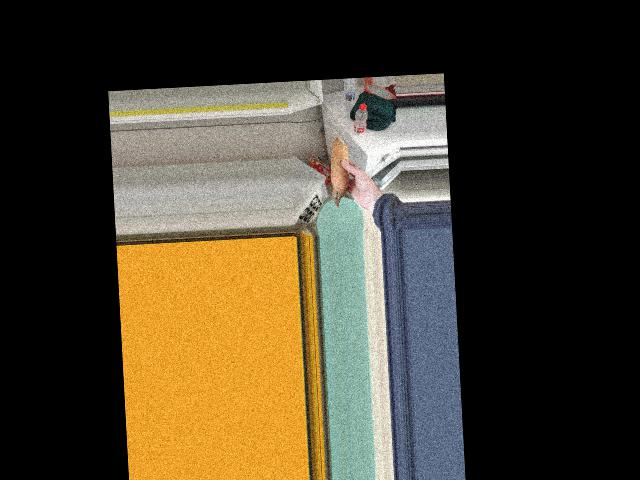sweet_potato: (329, 145, 356, 206)
